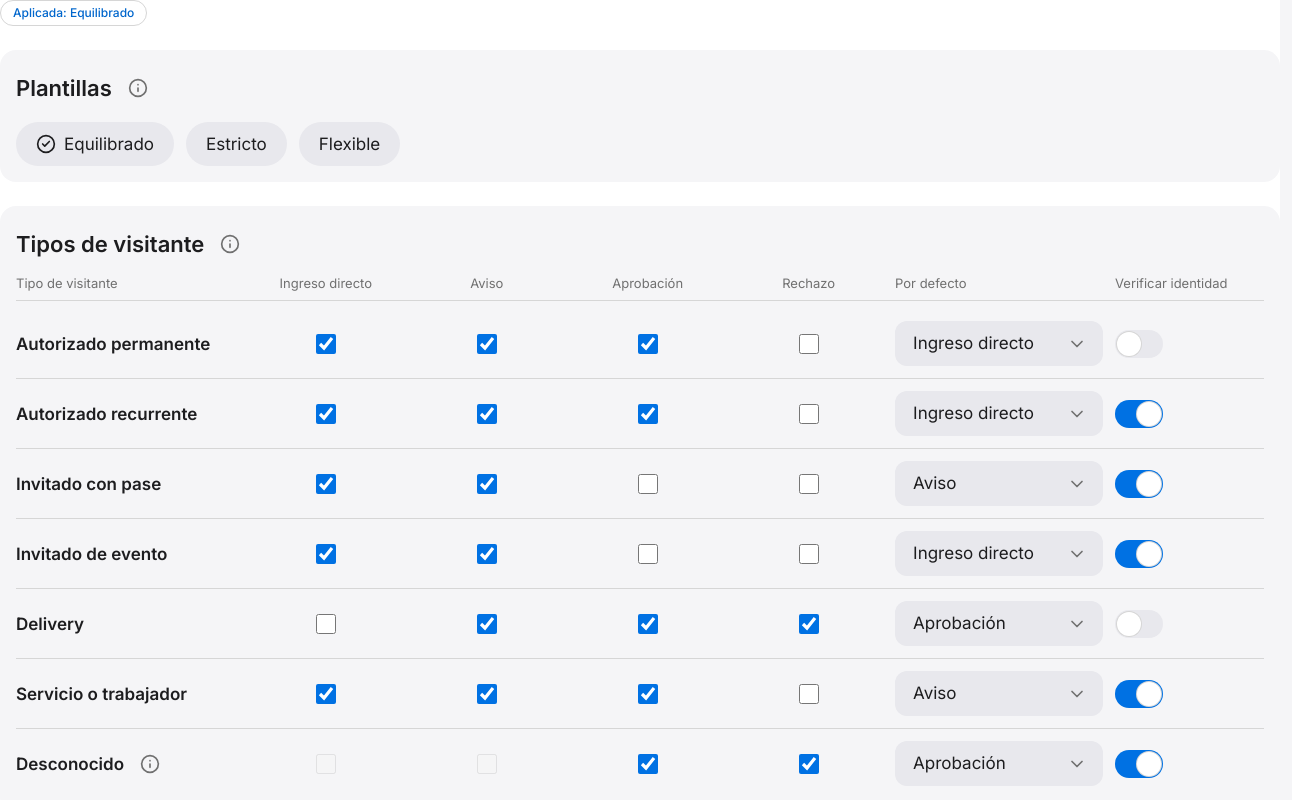
Test: PolicyEditor matrix › enables saving only after a change, and sends the whole policy with one event id
The width and height of the screenshot is (1292, 800).
Select "Rechazo" in the dropdown named "Por defecto" in the row of "Delivery" at (999, 624), box [895,601,1103,646]
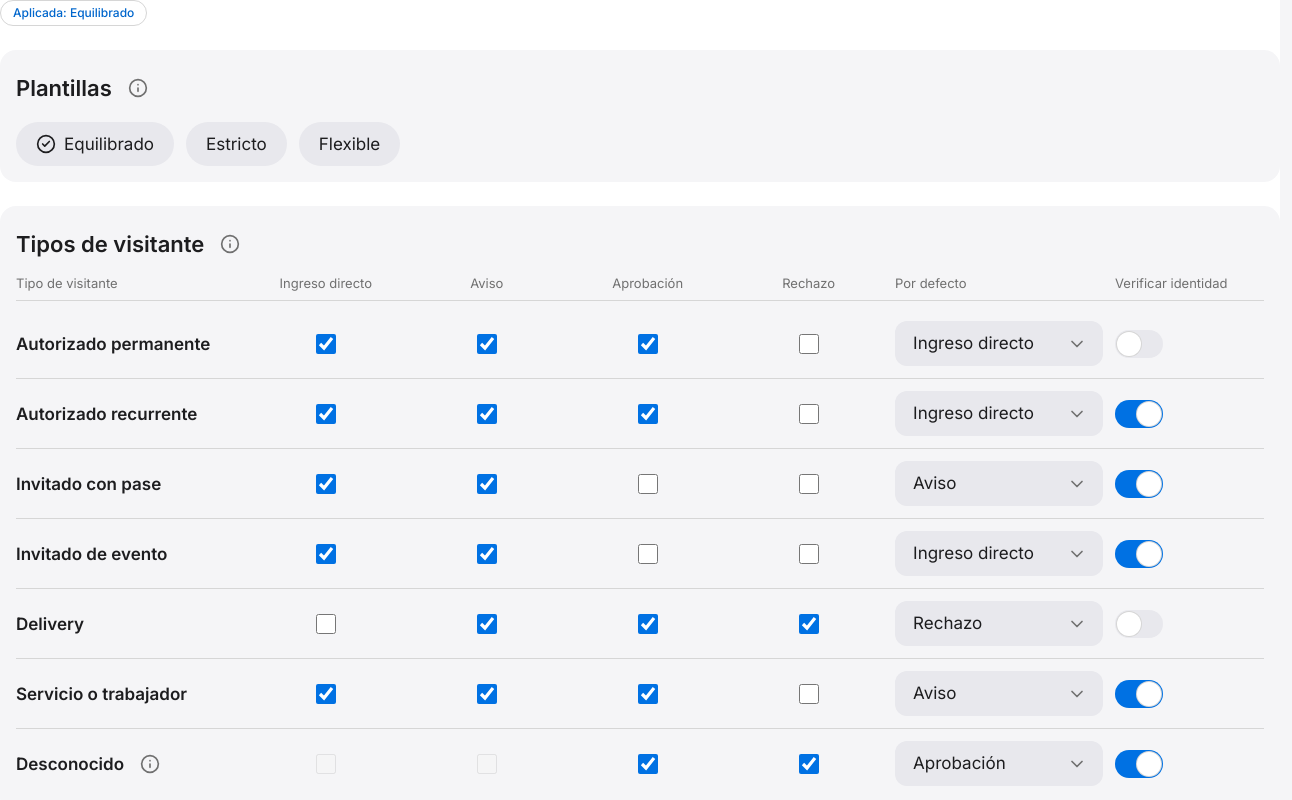
Click the switch named "Verificar identidad" at (1190, 624), box [1115,602,1264,646]
(page scrolled)
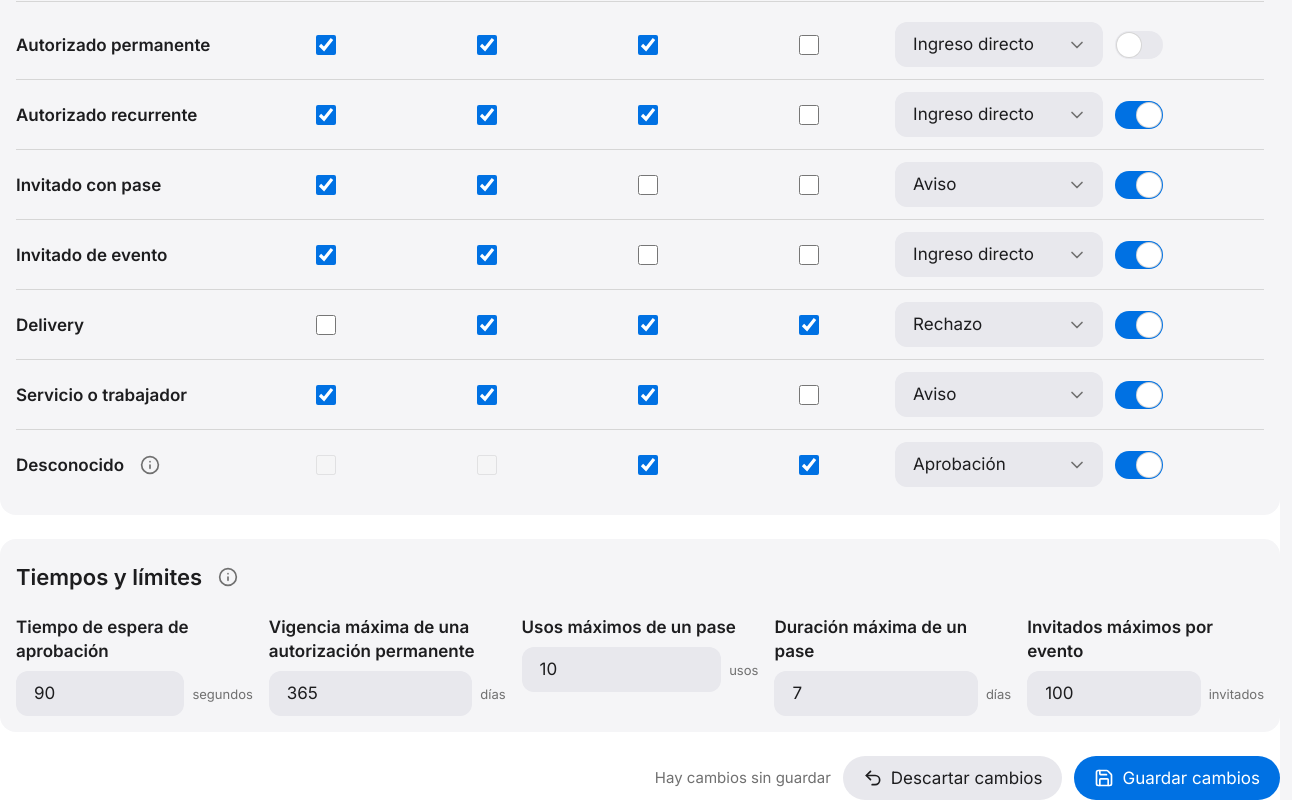
Expected: the text "Hay cambios sin guardar" is shown, [655,767,831,789]
Expected: the button "Guardar cambios" is enabled
Click the button "Guardar cambios" at (1177, 778), box [1074,756,1280,799]
(page scrolled)
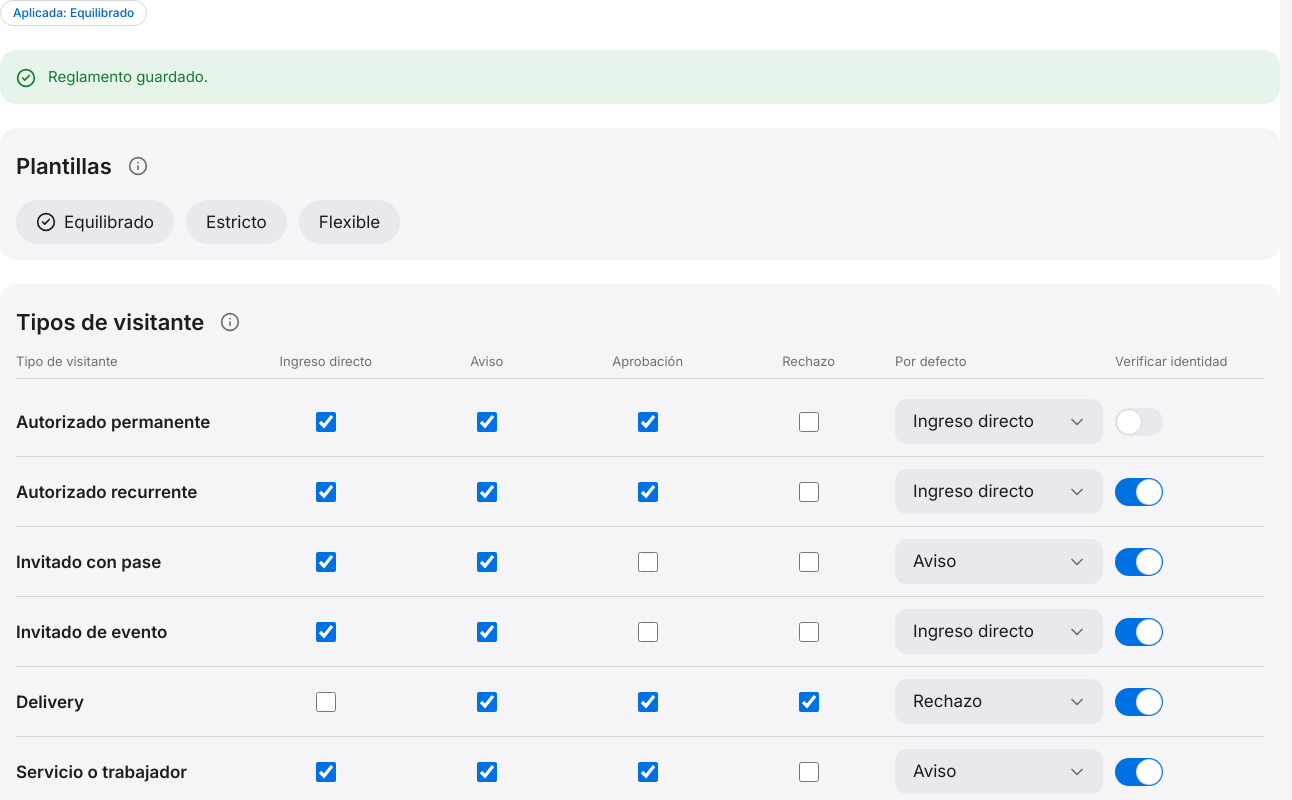
Expected: the text "Reglamento guardado." is shown, [48,66,208,88]
